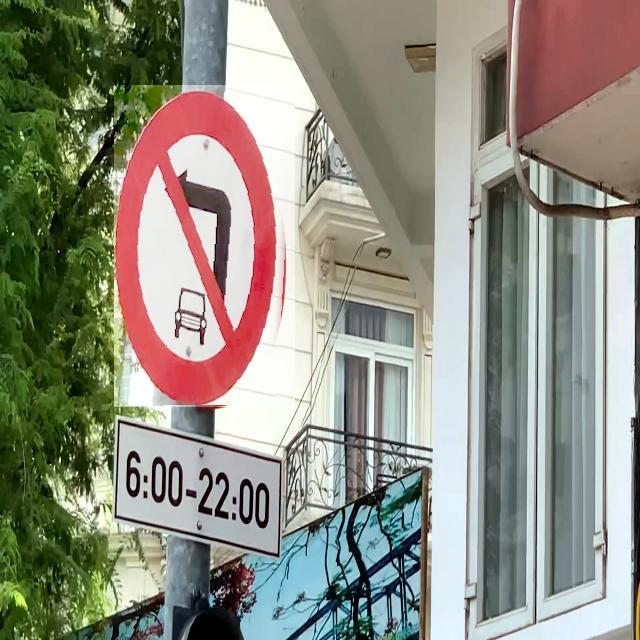P-103c: (114, 86, 295, 408)
